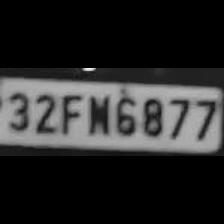2: (30, 89, 58, 133)
3: (3, 88, 31, 132)
6: (111, 92, 137, 136)
7: (188, 94, 216, 140), (163, 94, 189, 140)
8: (138, 92, 164, 138)
F: (56, 89, 82, 135)
